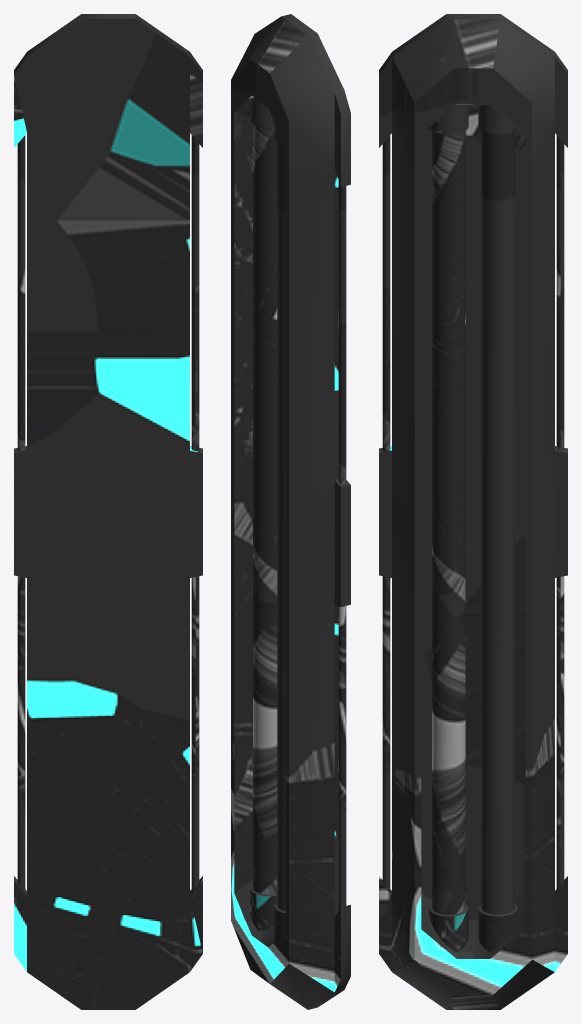
Rendered from Tubelight.fbx.
The picture shows the model from 3 angles, left to right: view 1: azimuth 90°, elevation 25°; view 2: azimuth 210°, elevation 25°; view 3: azimuth 270°, elevation 25°; orthographic projection.
Parts seen in each view (by area): view 1: TubeLight; view 2: TubeLight; view 3: TubeLight.
Part boxes in pixels (x1=…): TubeLight: x1=14, y1=14, x2=202, y2=1009; TubeLight: x1=231, y1=14, x2=350, y2=1009; TubeLight: x1=379, y1=14, x2=567, y2=1009.
Size of the model in its own units: 31.28 by 657 by 113.
